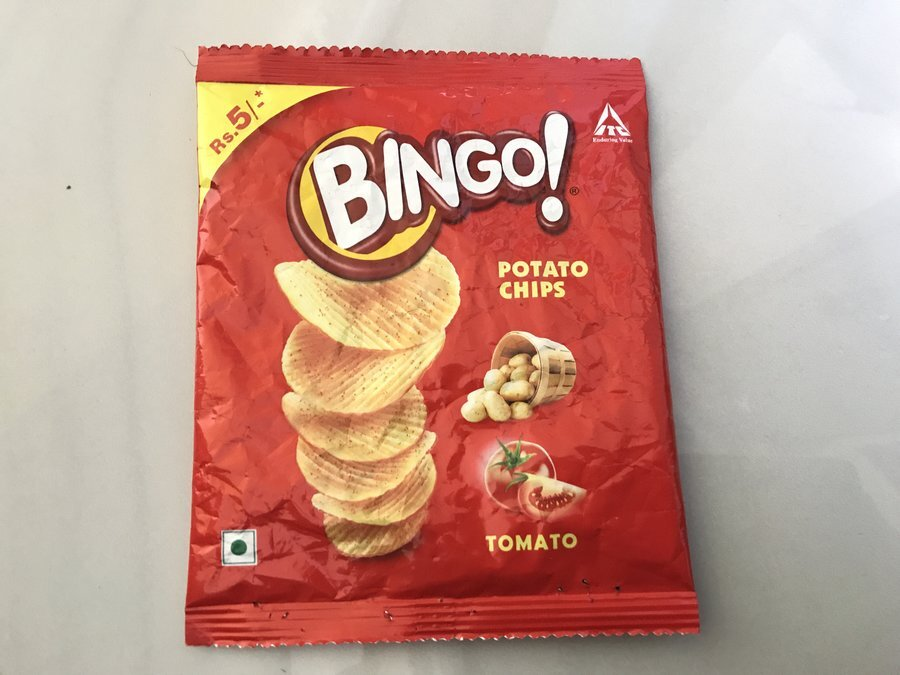VEG: (216, 526, 263, 568)
